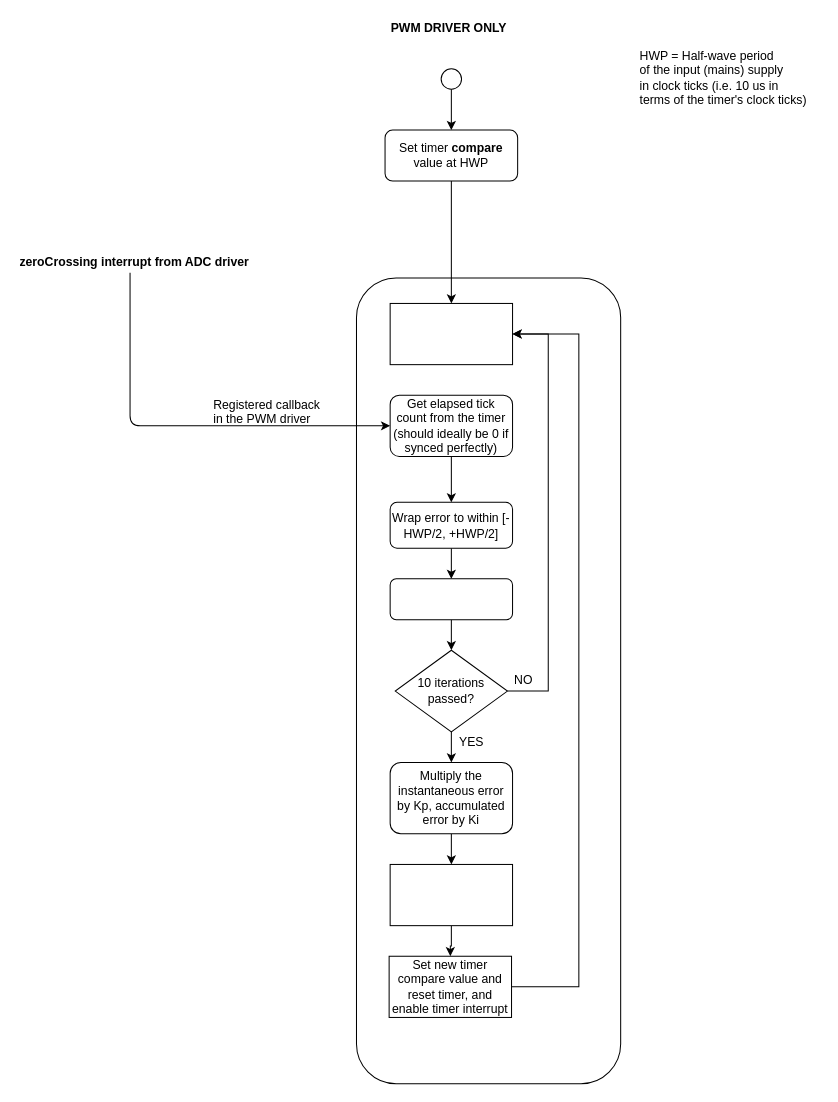
Image size: 838x1102. Some labels were removed from this diagram. The centre of each missing label's shape, as x and y in pixels:
"Accumulate error" belongs at pixel 451 599.
"Add this calculated value to the timer compare value as a correction" belongs at pixel 451 894.
"IDLE STATE, wait for ADC zero crossing interrupt" belongs at pixel 451 333.
